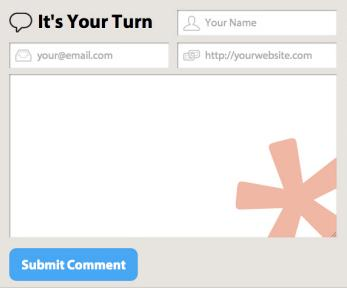button: (8, 247, 138, 283)
field: (8, 74, 339, 238), (8, 42, 170, 70), (177, 42, 338, 70), (177, 10, 337, 37)
